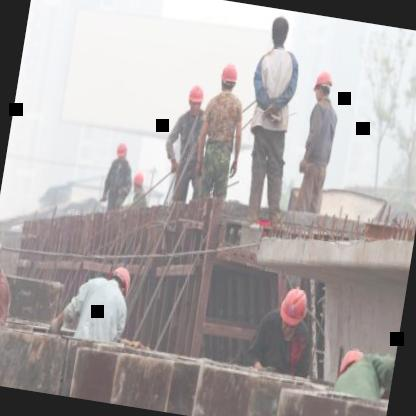head: (264, 10, 294, 52)
helmet: (279, 284, 312, 332), (337, 342, 368, 374), (310, 68, 334, 106), (107, 260, 132, 292), (186, 80, 207, 112), (218, 62, 240, 92), (130, 170, 147, 195), (0, 228, 6, 276), (114, 140, 128, 160)
